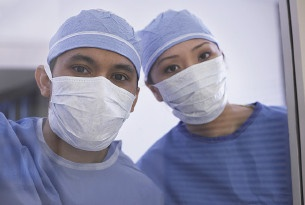Mask: (49, 52, 142, 145)
